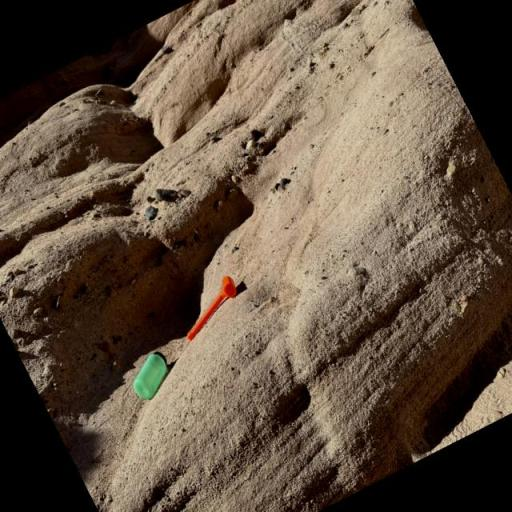bottle: (122, 347, 181, 405)
mallet: (168, 272, 250, 342)
